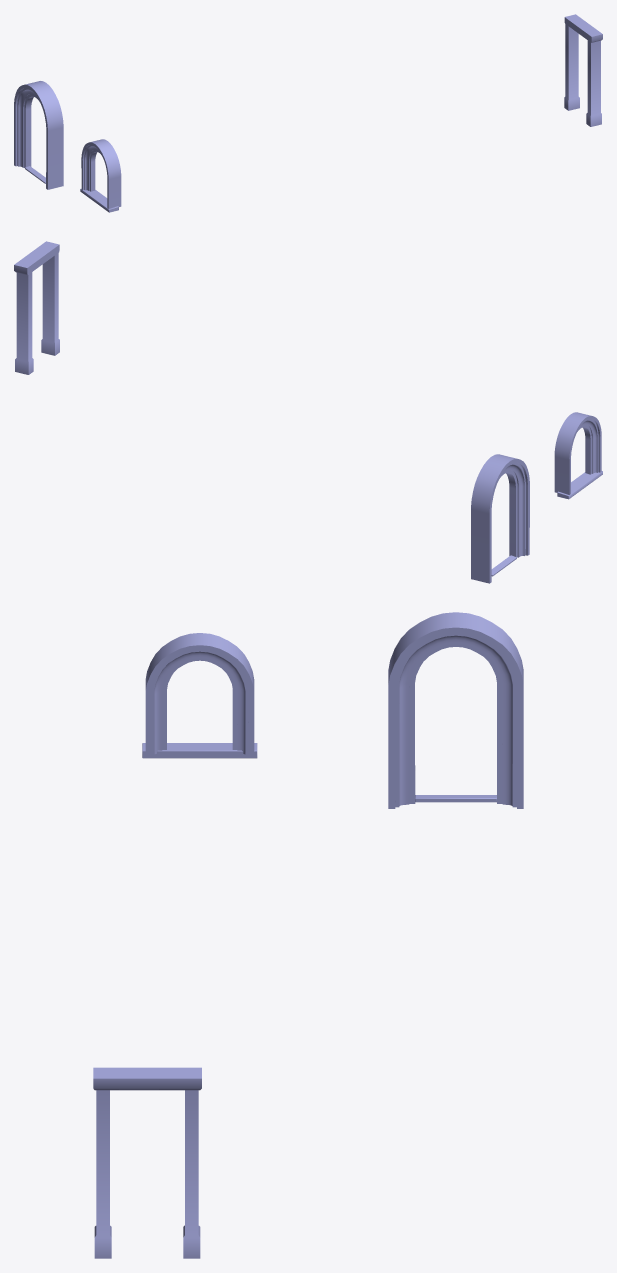
The model's file is FairyTale157.gltf.
3 renders of one model, top to bottom at view 1: azimuth 30°, elevation 25°; view 2: azimuth 150°, elevation 25°; view 3: azimuth 270°, elevation 25°, orthographic. The views are drawn at different scales.
Parts seen in each view (by area): view 1: HouseLG05_Stone_Stacked; view 2: HouseLG05_Stone_Stacked; view 3: HouseLG05_Stone_Stacked.
Boxes of the visible parts, box(x1,y1,x2,y2) form: HouseLG05_Stone_Stacked: box(14, 14, 602, 212); HouseLG05_Stone_Stacked: box(14, 241, 602, 583); HouseLG05_Stone_Stacked: box(93, 612, 523, 1258).
Bounding box in the file's own units: 16.69 × 3.06 × 6.46.
